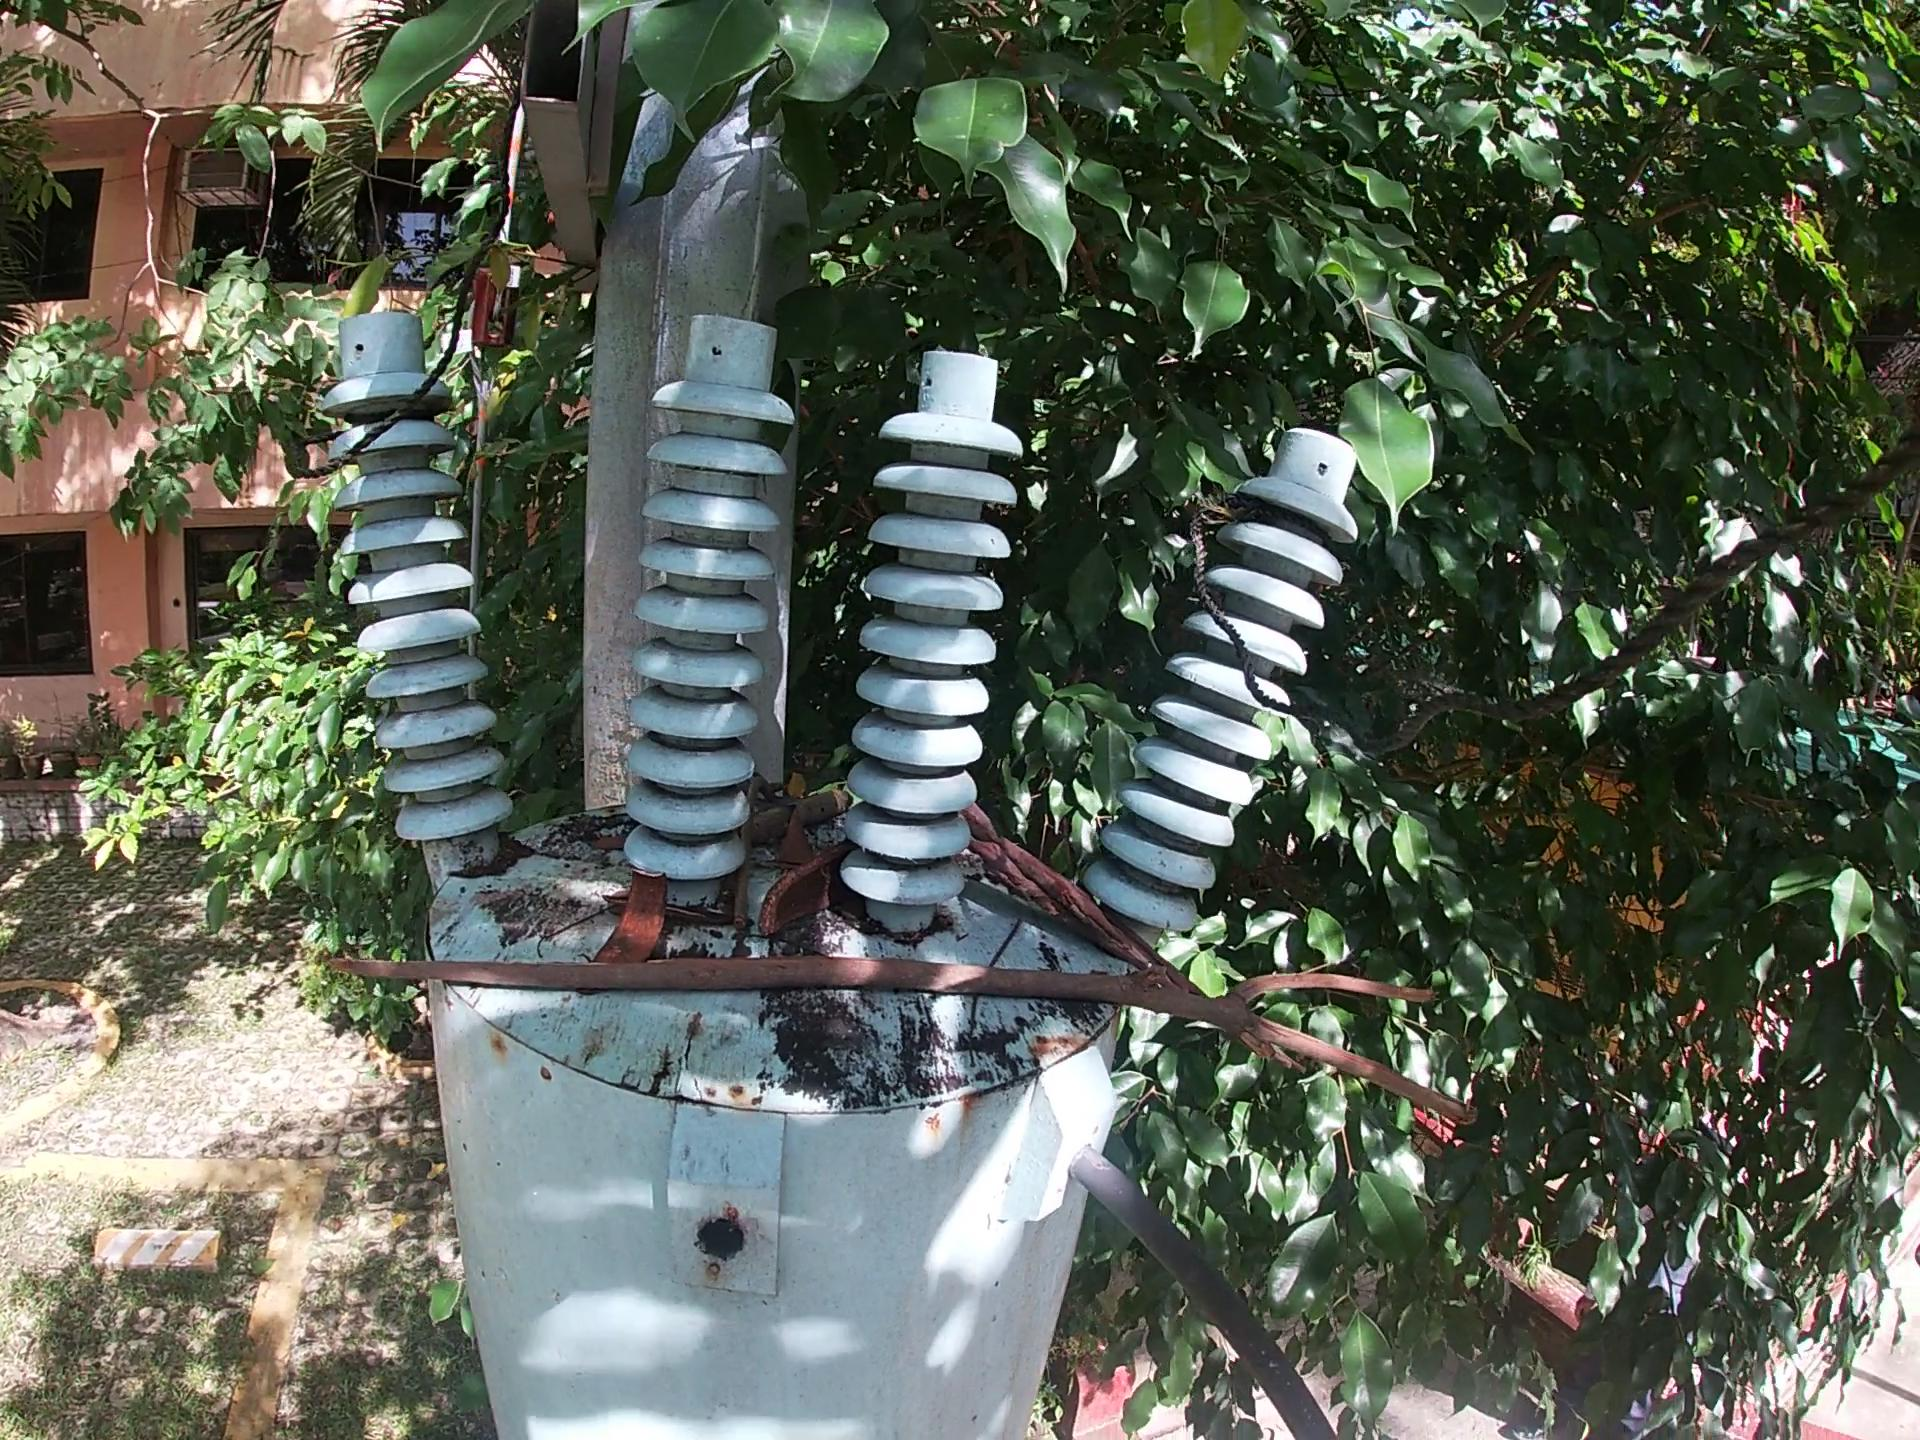leaf: (770, 805, 819, 871), (597, 885, 632, 926), (584, 830, 632, 858)
mahogany fruit: (751, 836, 872, 948), (590, 864, 682, 970)
tree branch: (317, 942, 1491, 1131), (960, 797, 1294, 1068), (720, 768, 788, 935), (745, 781, 862, 849)
